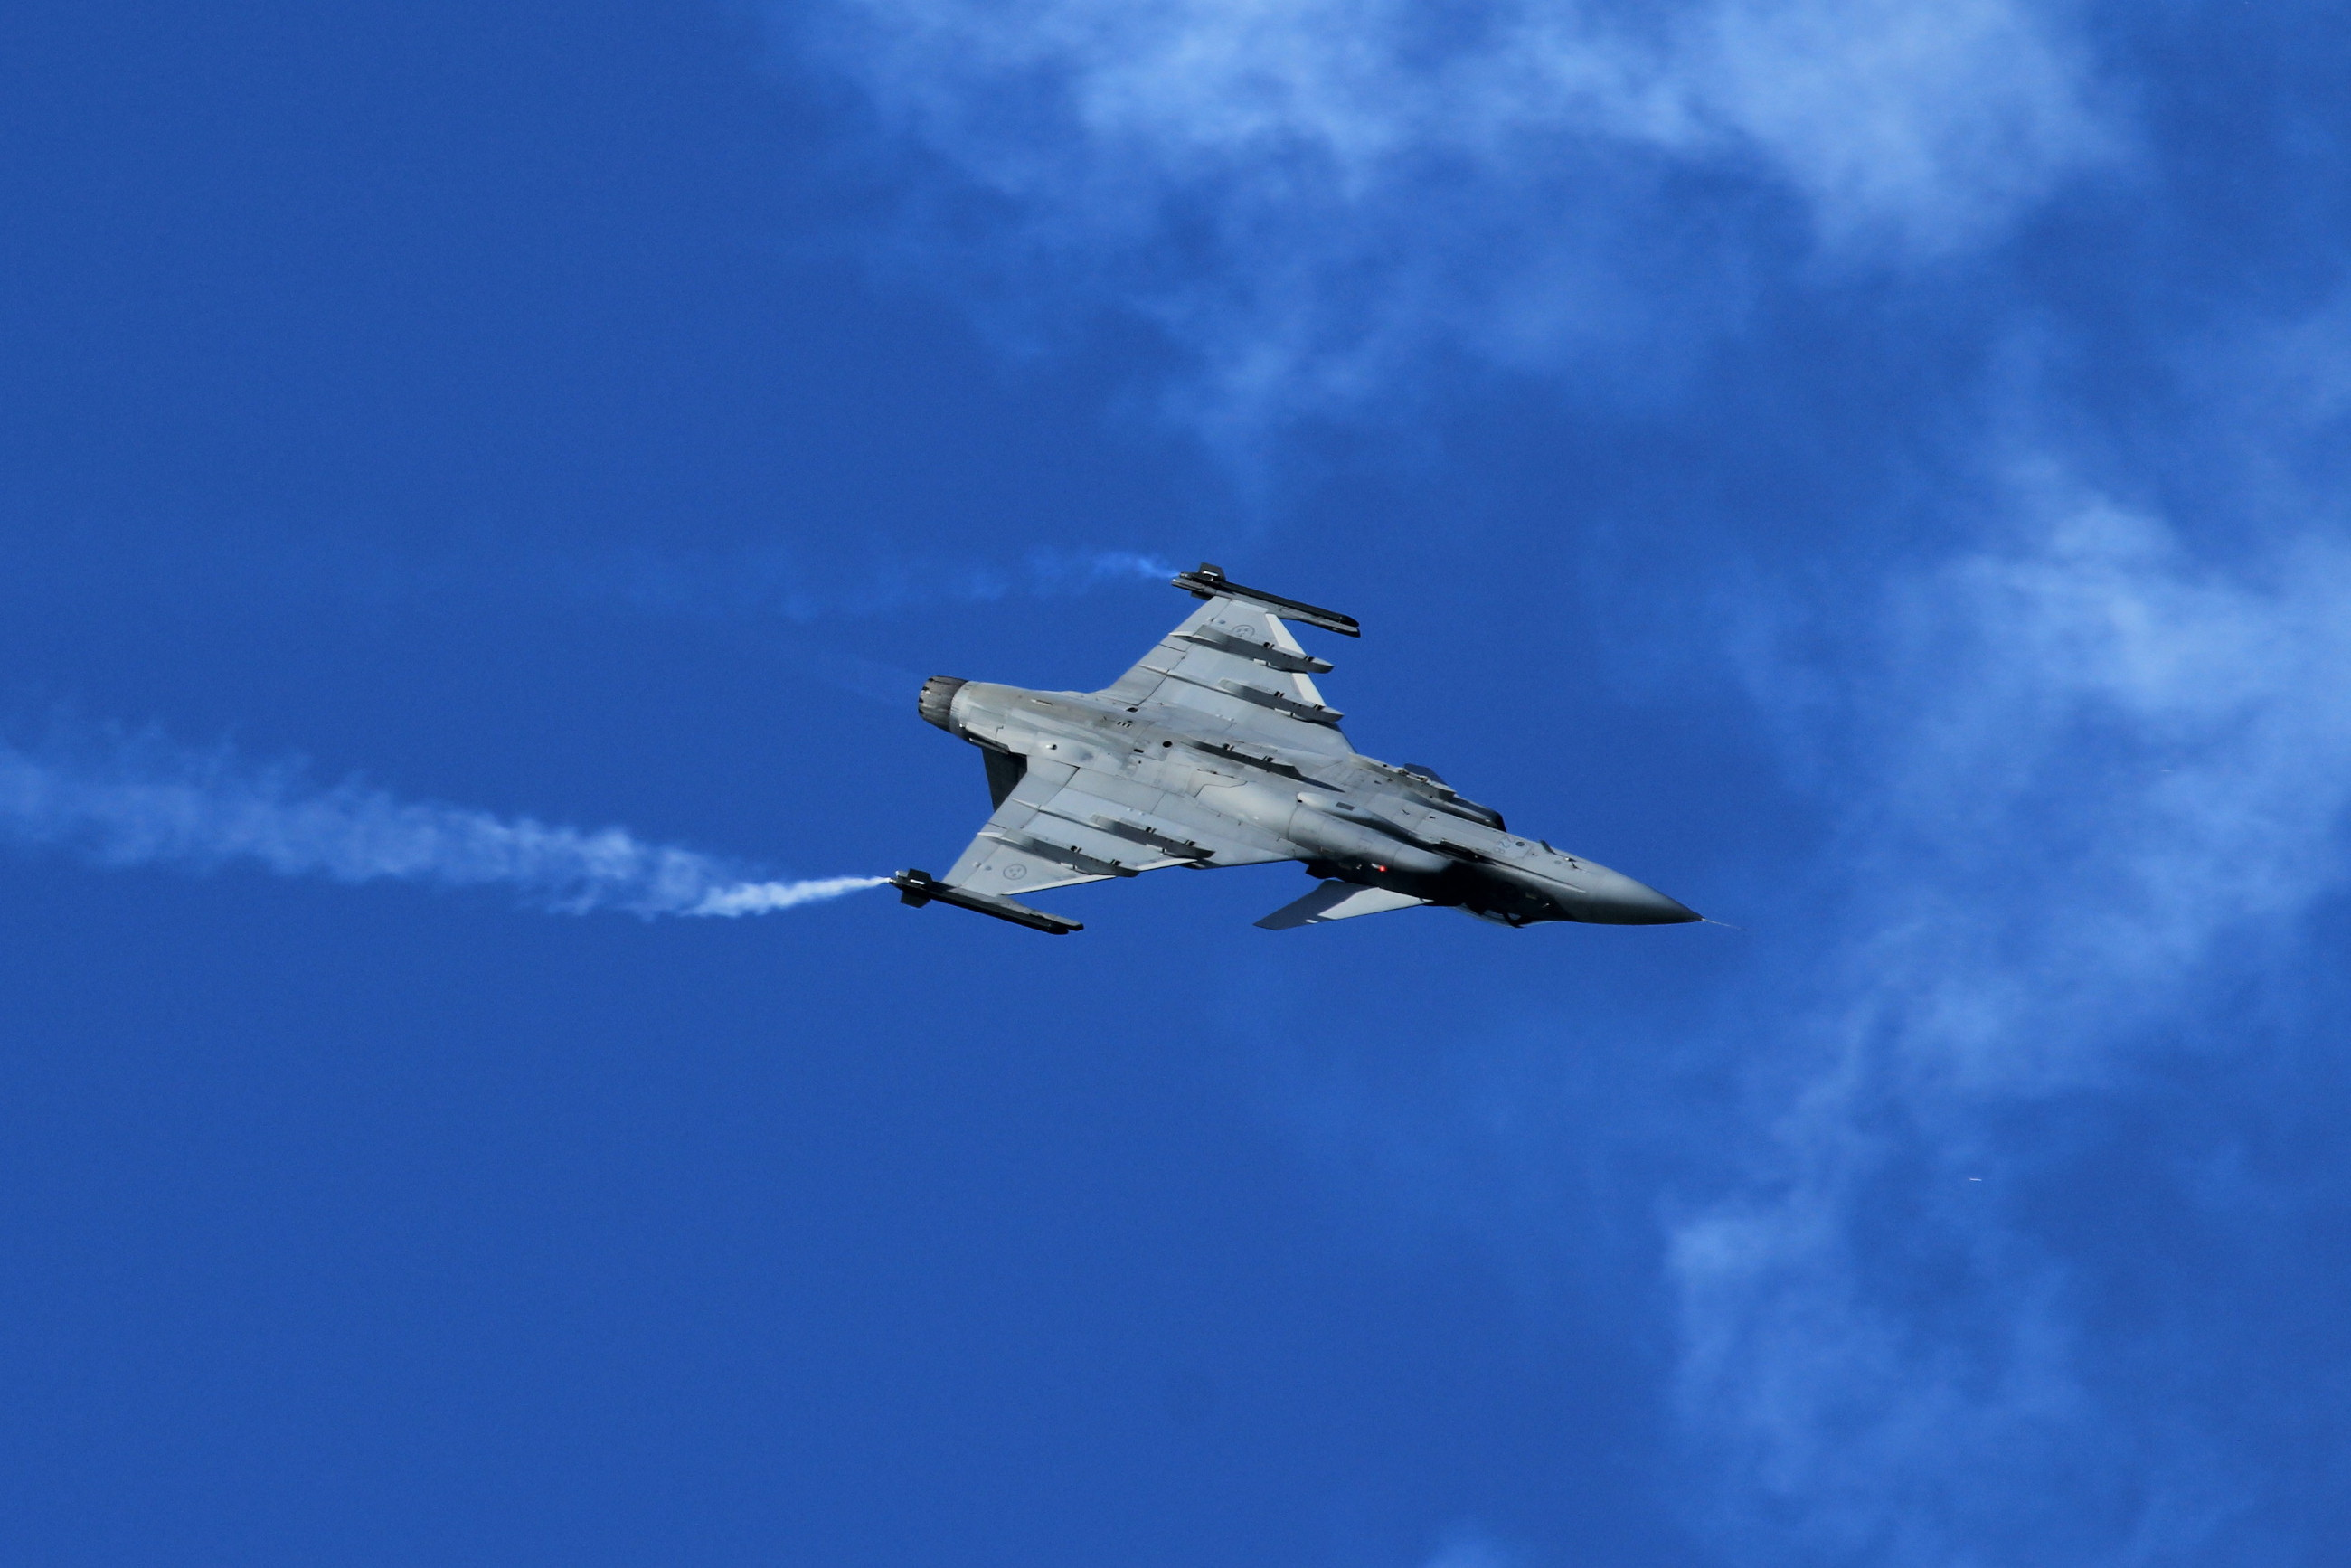JAS39: (887, 560, 1748, 935)
